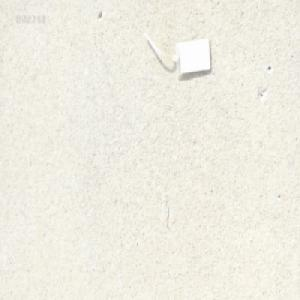LuggageTag: (140, 33, 213, 79)
